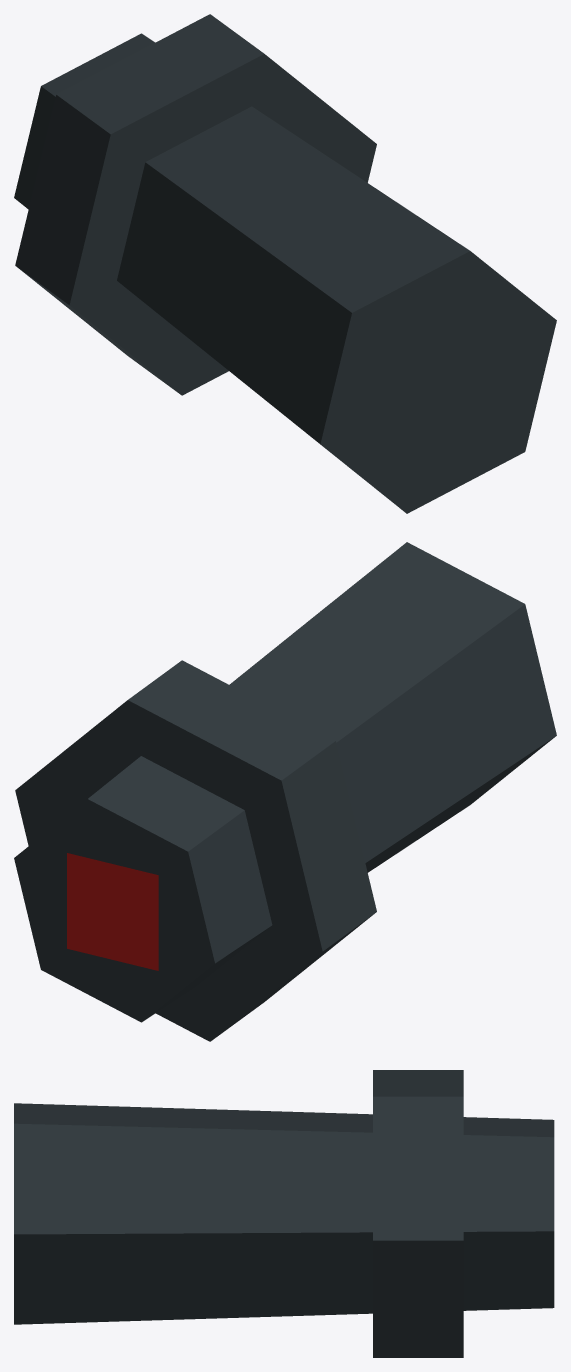
The picture shows the model from 3 angles, top to bottom: view 1: azimuth 30°, elevation 25°; view 2: azimuth 150°, elevation 25°; view 3: azimuth 270°, elevation 25°; orthographic projection. The views are drawn at different scales.
Visible parts, largest first — view 1: mount; view 2: mount; view 3: mount.
Boxes of the visible parts, box(x1,y1,x2,y2) form: mount: box(14, 14, 556, 513); mount: box(14, 542, 556, 1041); mount: box(14, 1070, 554, 1357).
Bounding box in the file's own units: 3.26 × 3.26 × 5.99.
